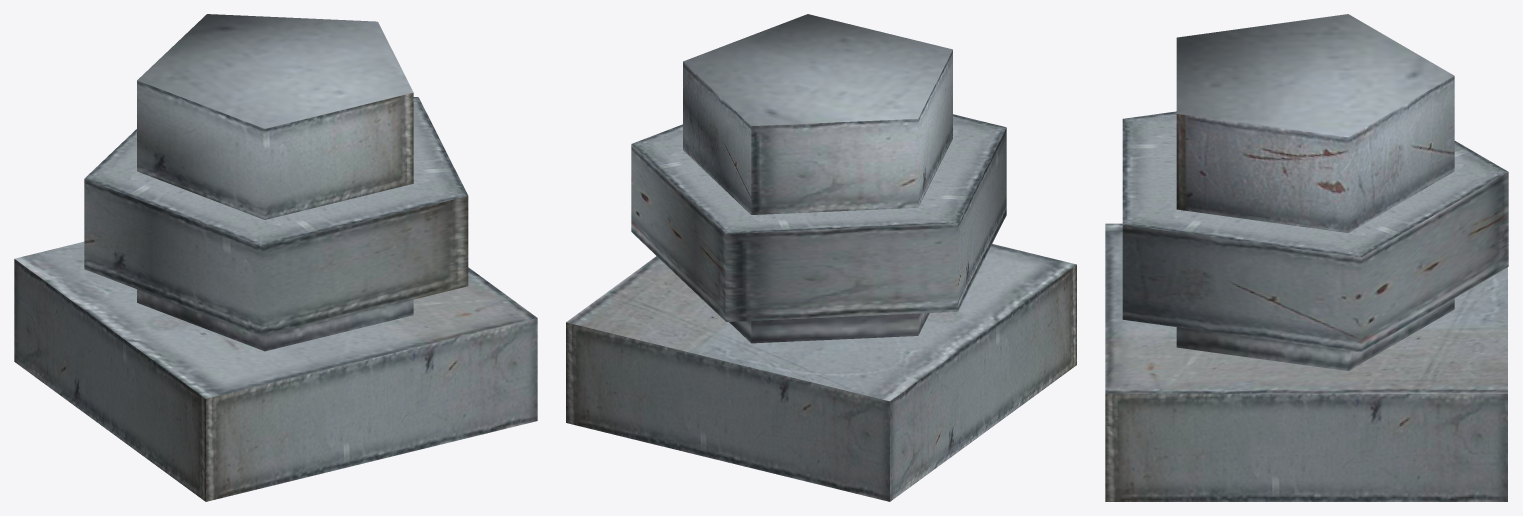
File: Bolt.fbx
3 views of the same model, side by side, from view 1: azimuth 30°, elevation 25°; view 2: azimuth 150°, elevation 25°; view 3: azimuth 270°, elevation 25° (orthographic). The views are drawn at different scales.
Visible parts, largest first — view 1: Bolt; view 2: Bolt; view 3: Bolt.
Part boxes in pixels (<box>): Bolt: <box>14,14,537,501</box>; Bolt: <box>566,14,1076,501</box>; Bolt: <box>1105,14,1508,501</box>.
Size of the model in its own units: 35.79 by 33.26 by 35.55.
